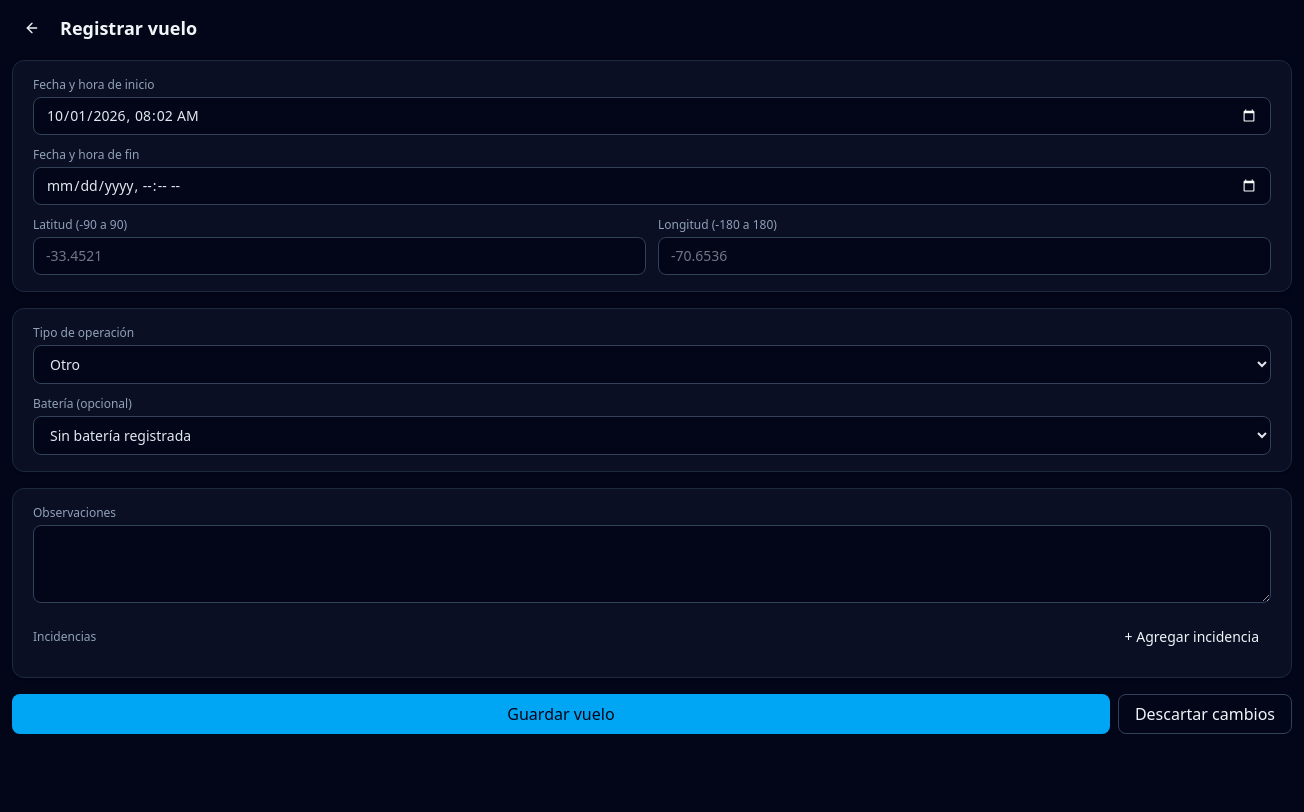
Test: FlightForm › shows inline errors and does not save with empty coordinates
Step 1. Click the button "Guardar vuelo" → [561, 714], box [12,694,1110,734]
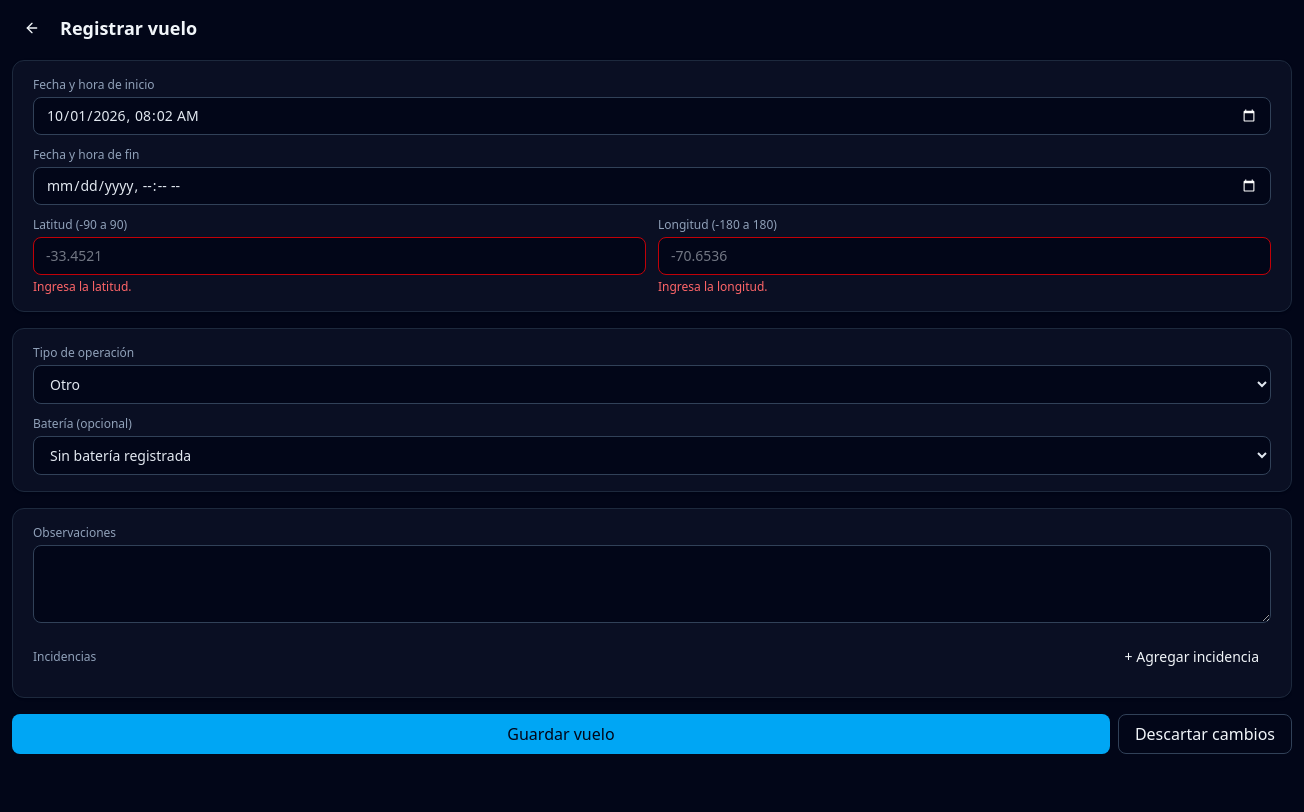
Now the text "Ingresa la latitud." is shown, box [33,278,132,295]
